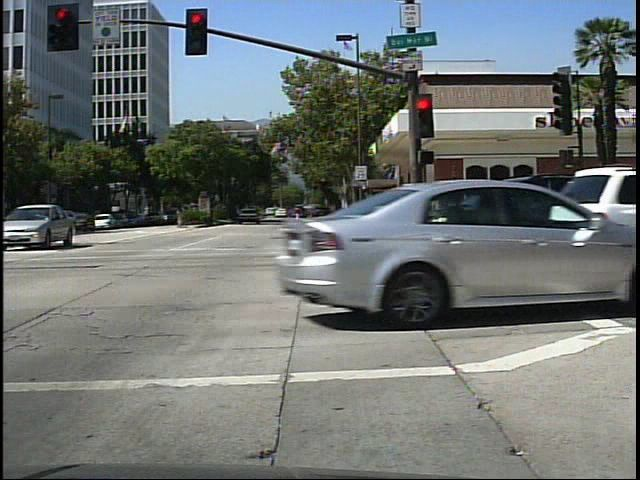person: (291, 203, 304, 221)
